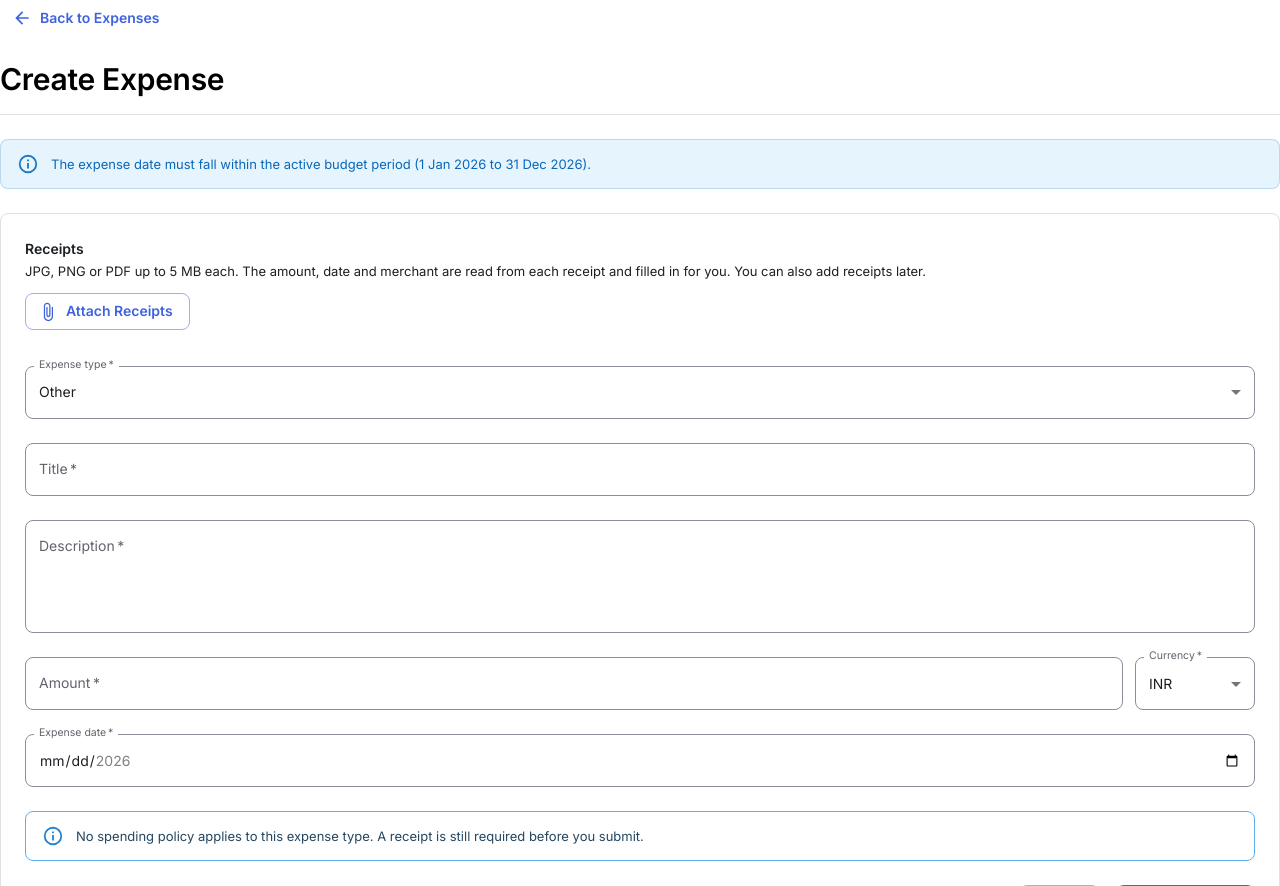
Test: CreateExpensePage › shows the server's reason under the field and keeps what was typed
The image size is (1280, 886).
Expected: the text "must fall within the active budget period" is shown, [51,156,419,172]
In the field labelled "Title *": (640, 469) [25,443,1255,496], type "Team lunch"
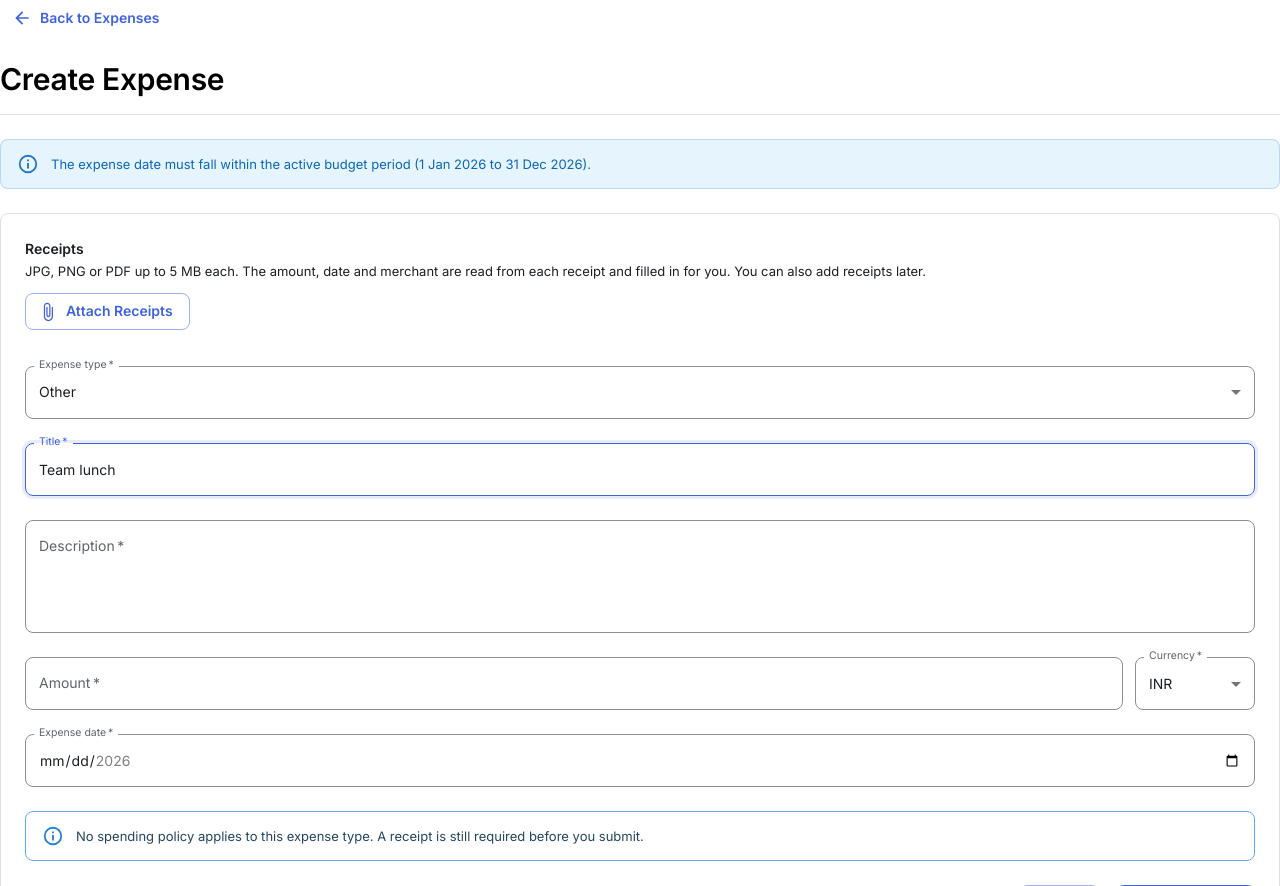
In the text box labelled "Description": (640, 576) [39,536,1241,616], type "Lunch with the project team"
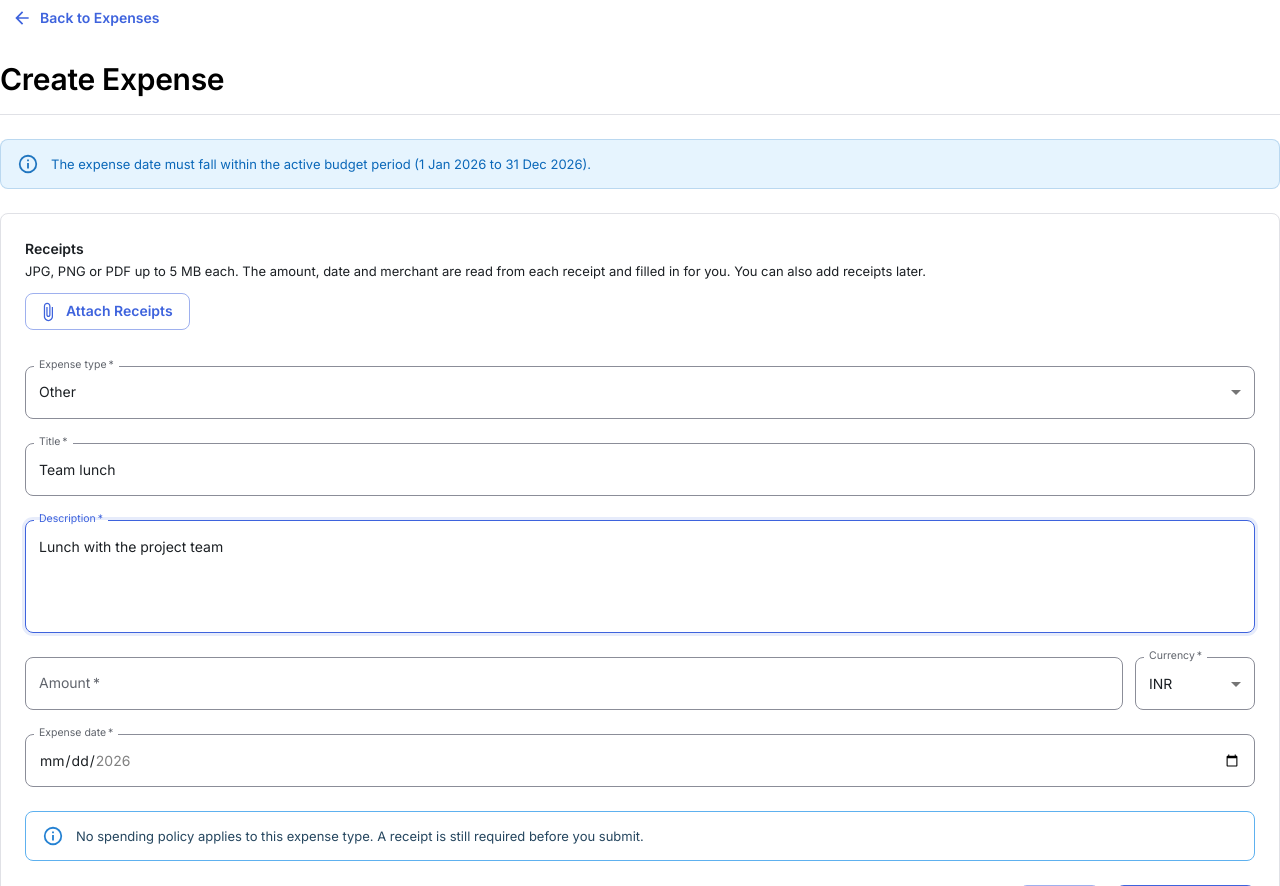
In the number field labelled "Amount": (574, 684) [25,657,1123,710], type "1200"
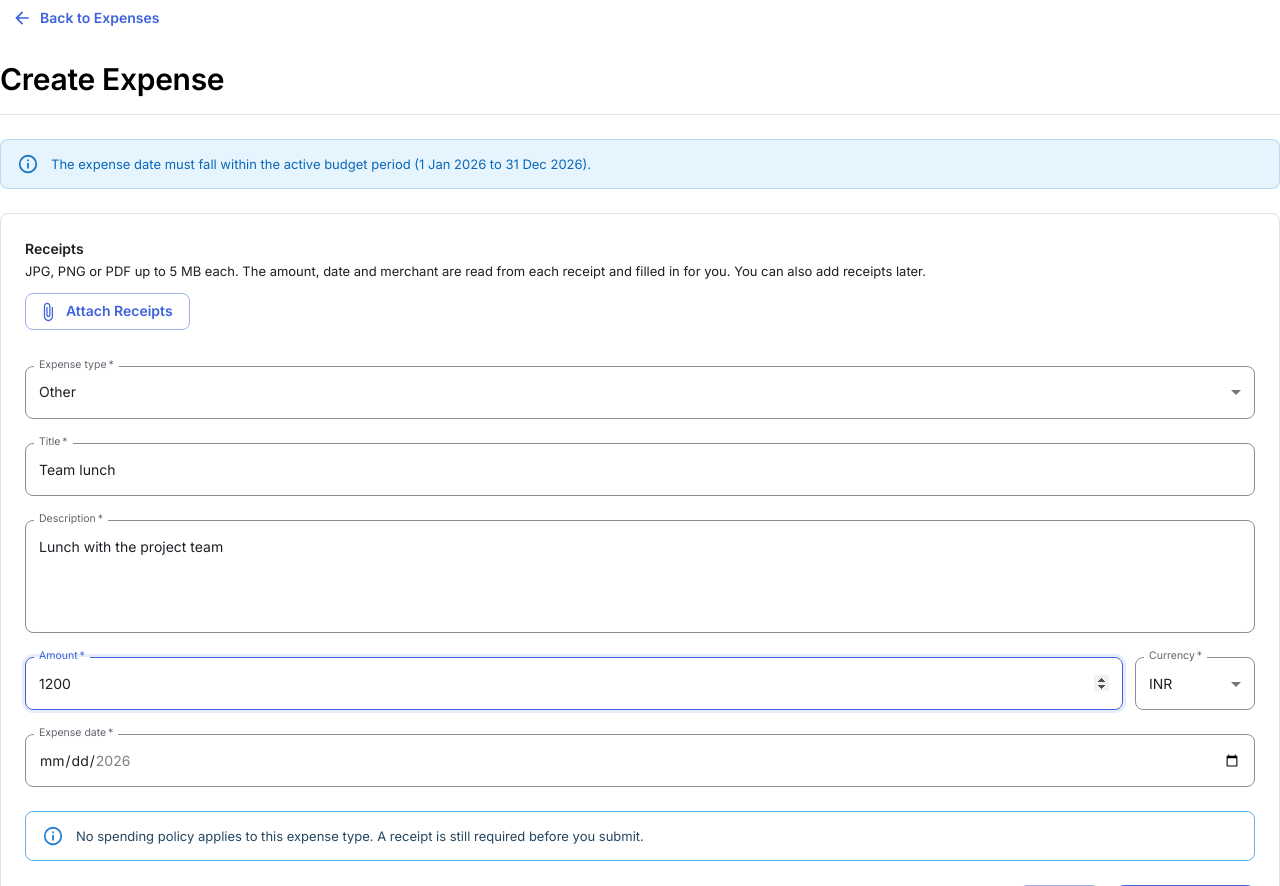
In the date field labelled "Expense date *": (640, 761) [25,734,1255,787], type "2026-10-10"
(page scrolled)
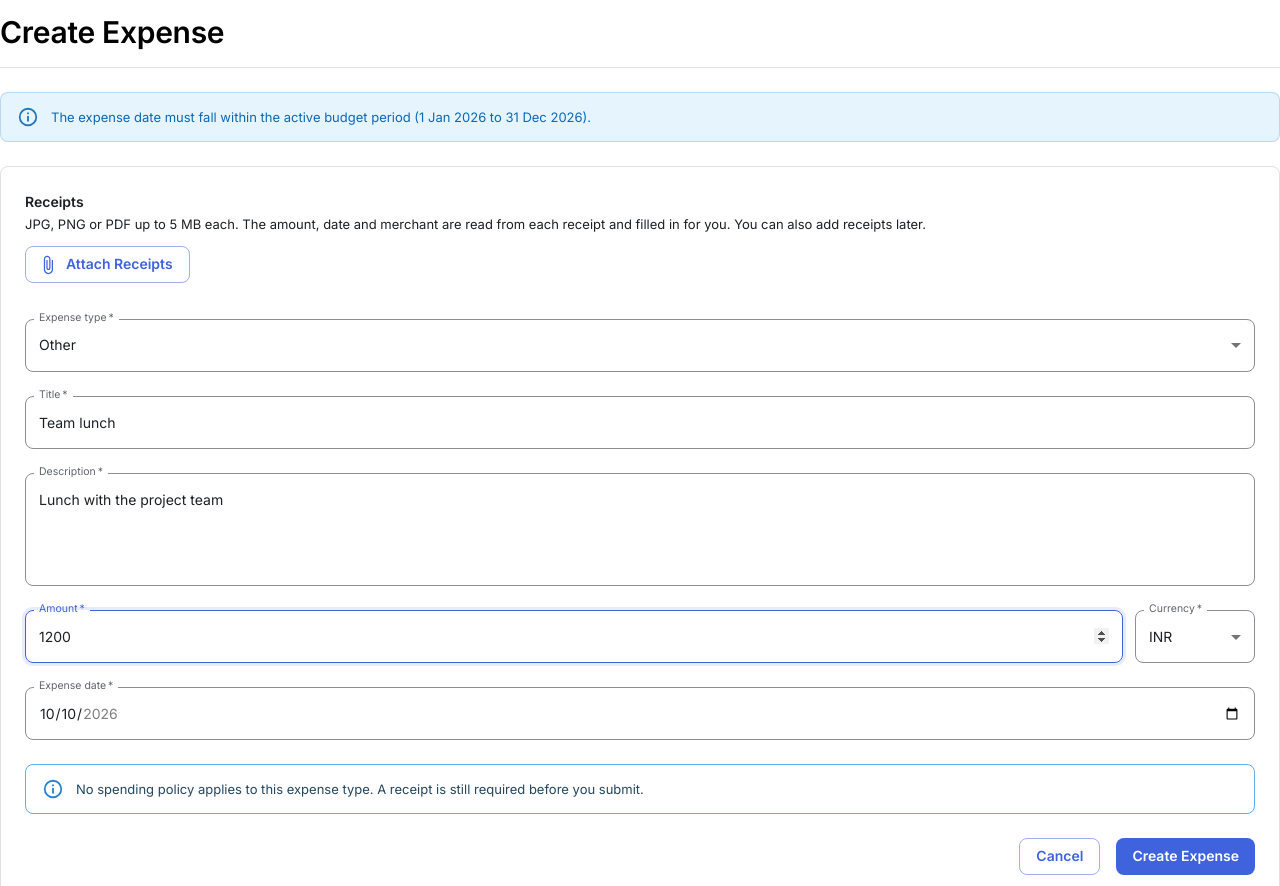
Click the button "Create Expense": (1186, 857) [1116,838,1255,875]
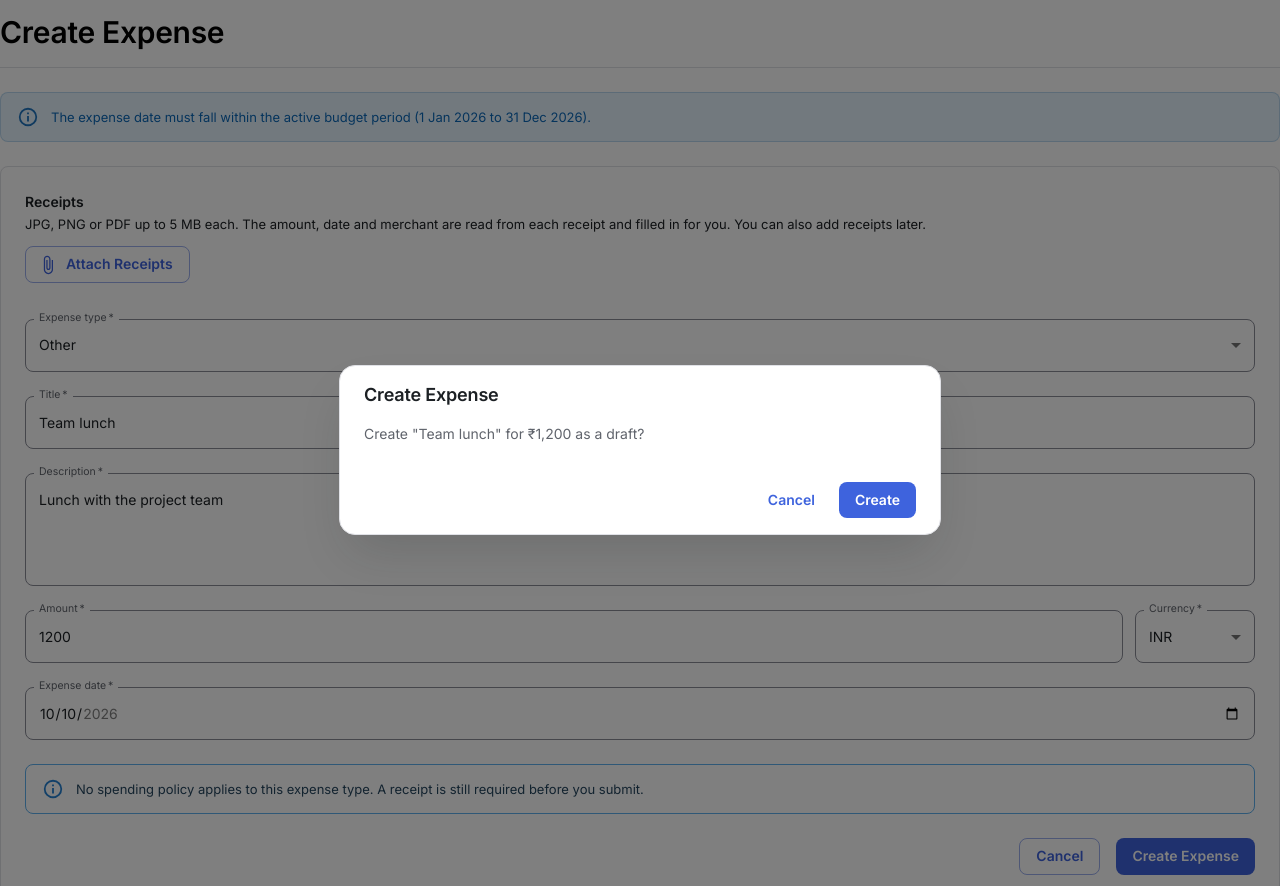
Click the button "Create": (877, 500) [839,482,916,518]
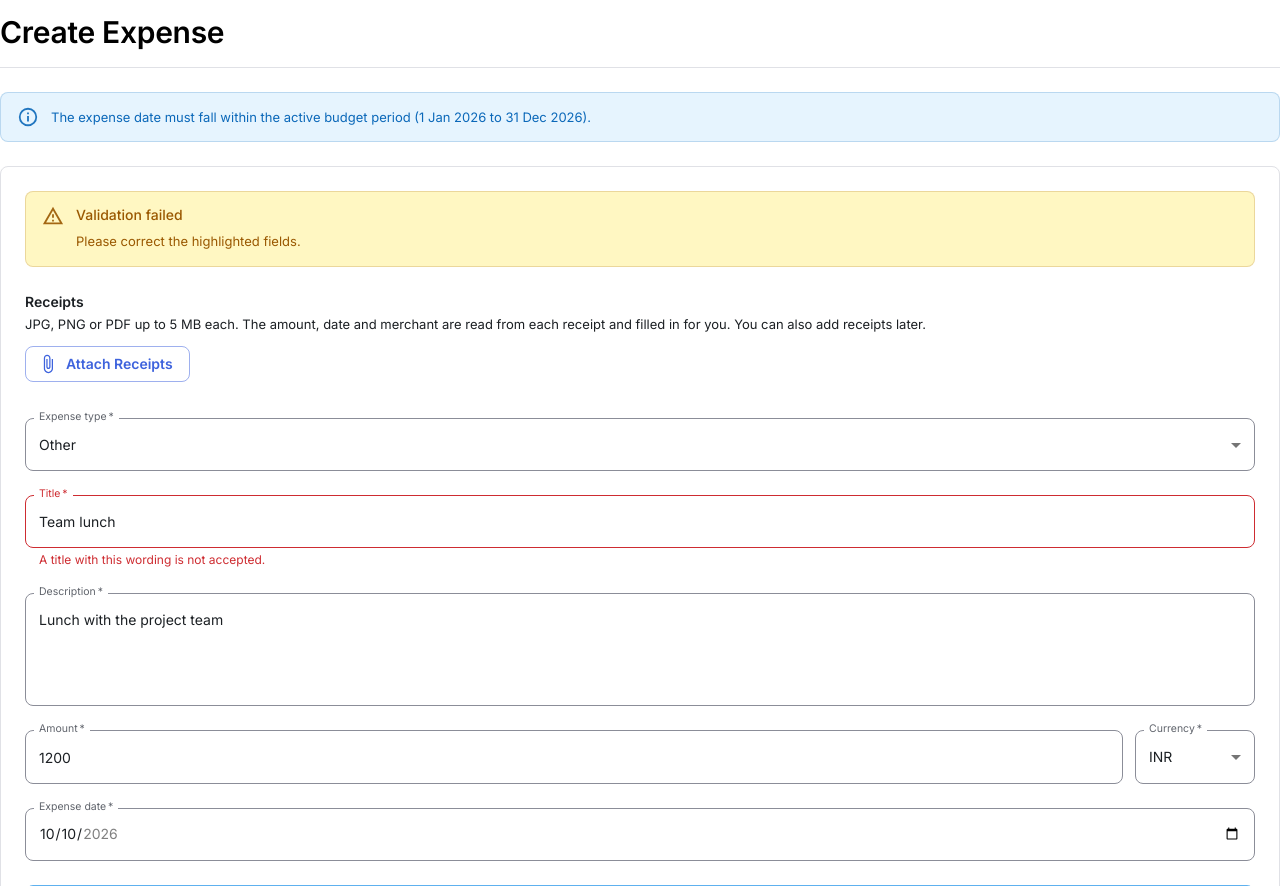
Result: the dialog is gone
Result: the text "Validation failed" is shown at [76,206,183,223]
